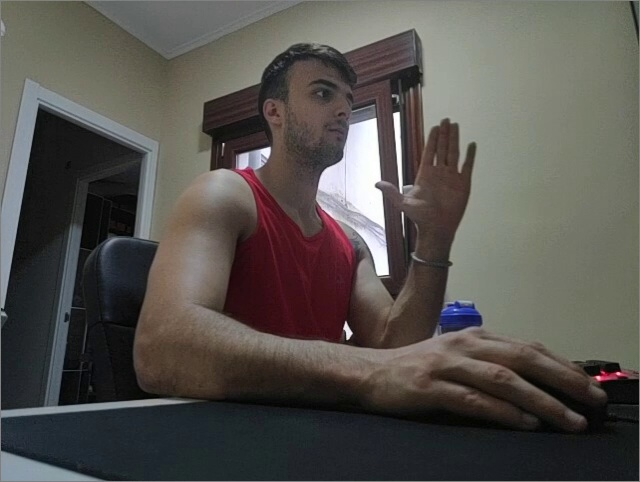Palm: (374, 116, 478, 231)
